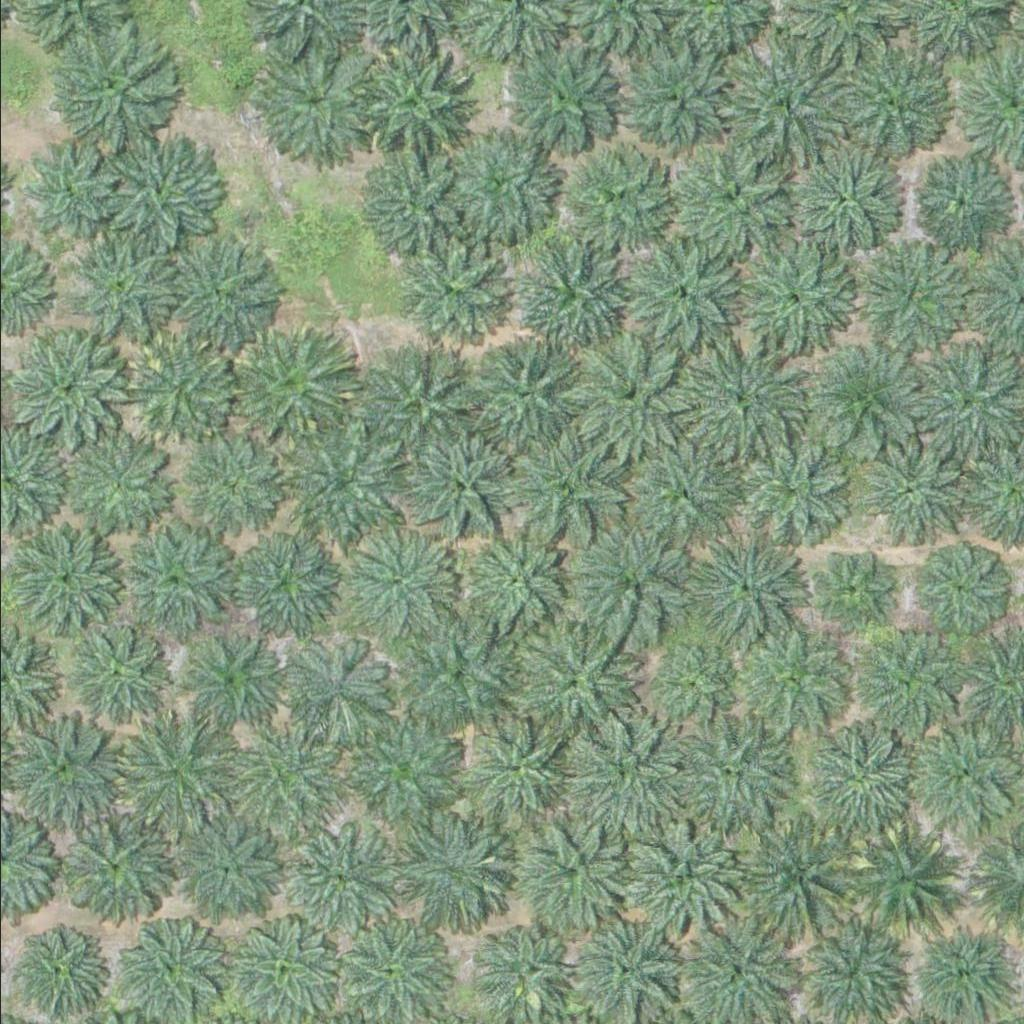Kelapa_Sawit: (826, 40, 952, 165), (664, 124, 790, 249), (353, 37, 479, 162), (249, 41, 375, 166), (679, 334, 805, 459), (564, 330, 690, 455), (508, 626, 634, 751), (661, 712, 787, 837), (95, 128, 221, 253), (42, 22, 168, 147), (554, 129, 679, 254), (436, 118, 561, 243), (221, 321, 346, 446), (798, 717, 912, 830), (625, 435, 739, 548), (732, 432, 846, 545), (167, 808, 281, 921), (805, 343, 918, 456), (851, 237, 964, 350), (503, 38, 616, 151), (617, 39, 730, 152), (732, 52, 845, 165), (358, 144, 471, 257), (401, 431, 514, 544), (505, 428, 618, 541), (221, 527, 334, 640), (569, 718, 682, 831), (392, 812, 505, 925), (512, 815, 625, 928), (616, 820, 729, 933), (10, 517, 123, 630), (14, 335, 127, 448), (684, 527, 798, 639), (570, 529, 684, 641), (391, 617, 505, 729), (340, 712, 454, 824), (281, 826, 395, 938), (59, 808, 173, 920), (120, 717, 234, 829), (845, 826, 958, 938), (782, 154, 895, 266), (395, 235, 508, 347), (520, 242, 633, 354), (623, 234, 736, 346), (733, 239, 846, 351), (463, 339, 576, 451), (365, 346, 478, 458), (278, 428, 391, 540), (221, 716, 334, 828), (740, 821, 853, 933), (2, 710, 115, 822), (62, 426, 175, 538), (859, 442, 960, 542), (908, 154, 1009, 254), (348, 535, 449, 635), (177, 629, 278, 729), (735, 629, 836, 729), (479, 922, 580, 1022), (118, 922, 219, 1022), (66, 622, 167, 722), (124, 530, 225, 630), (181, 433, 282, 533), (131, 339, 232, 439), (169, 249, 270, 349), (71, 237, 172, 337), (18, 139, 119, 239), (917, 726, 1017, 826), (857, 634, 957, 734), (466, 528, 566, 628), (281, 635, 381, 735), (470, 721, 570, 821), (913, 545, 1001, 633), (810, 548, 886, 623), (651, 650, 727, 725)
